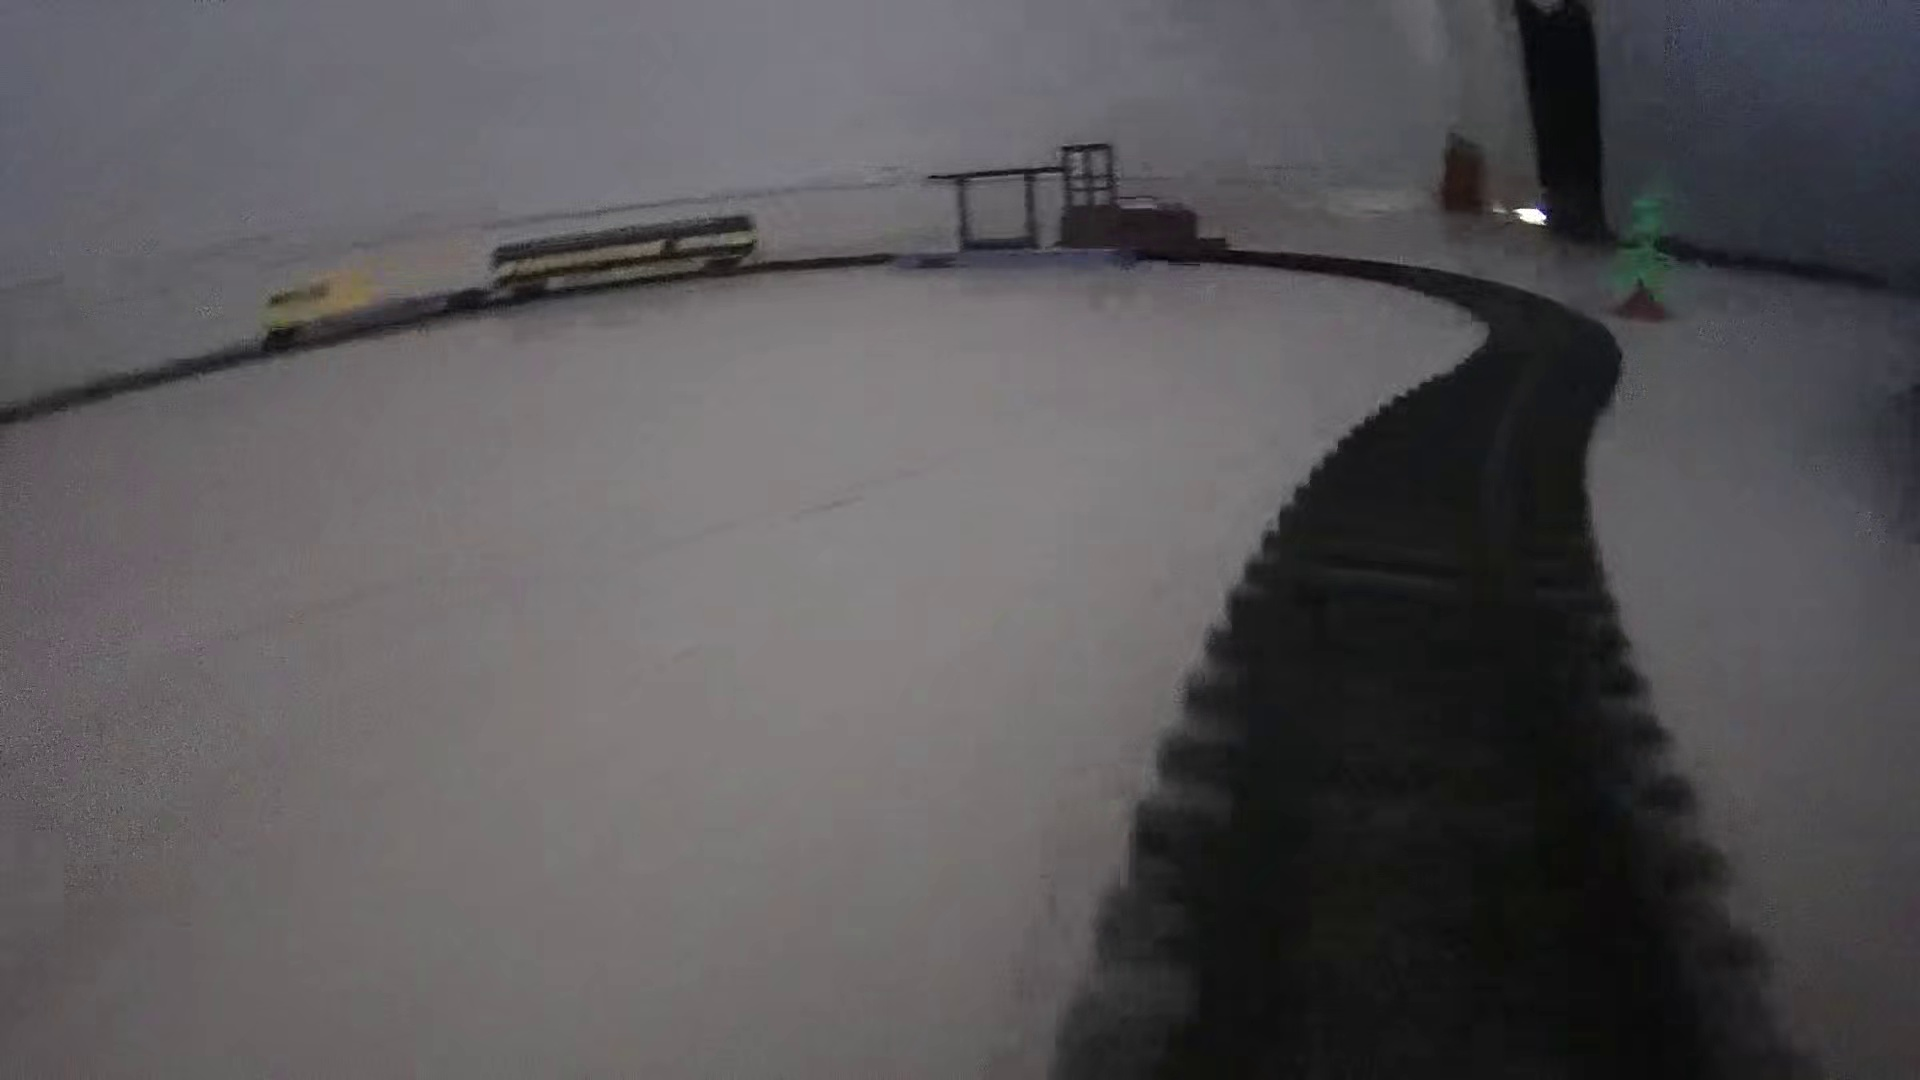tree: (1603, 167, 1678, 331)
